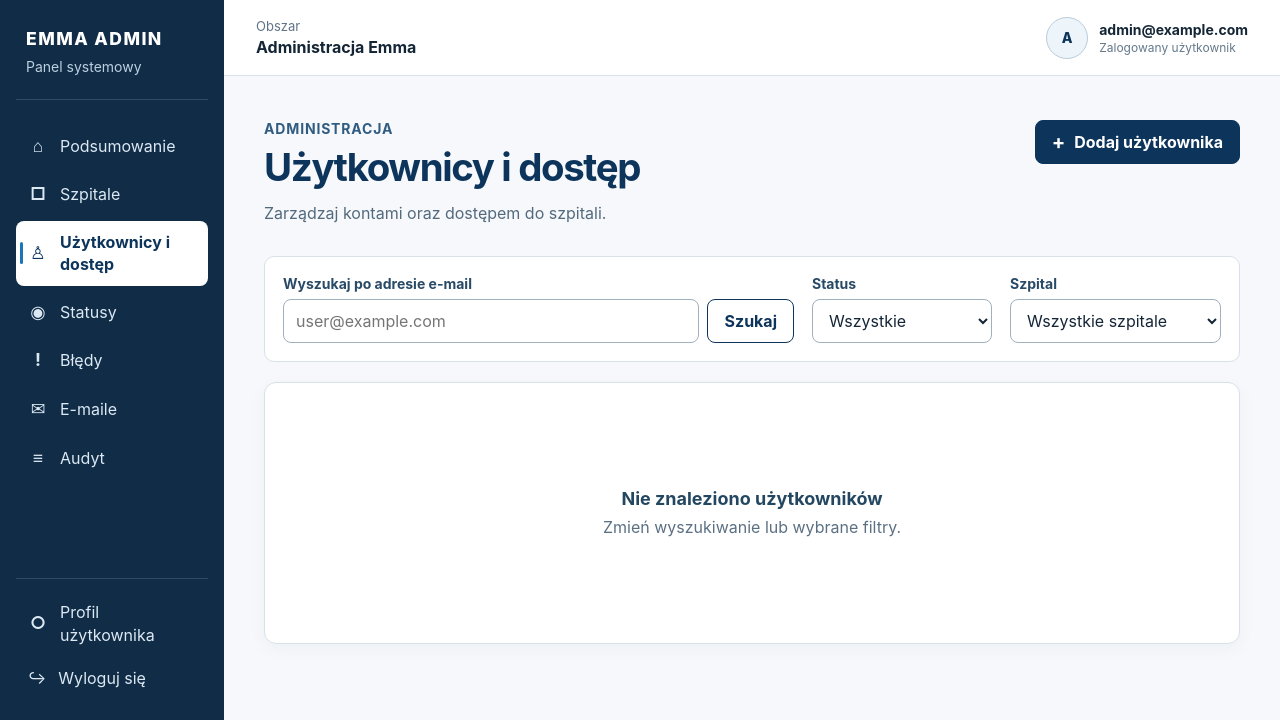
Test: Admin users page › copies the generated password and shows confirmation
This screenshot has width=1280, height=720.
Expected: the text "Nie znaleziono użytkowników" is shown, x1=621 y1=488 x2=883 y2=510
Click the button "+ Dodaj użytkownika". click: [1137, 142]
box: x1=1035 y1=120 x2=1240 y2=164
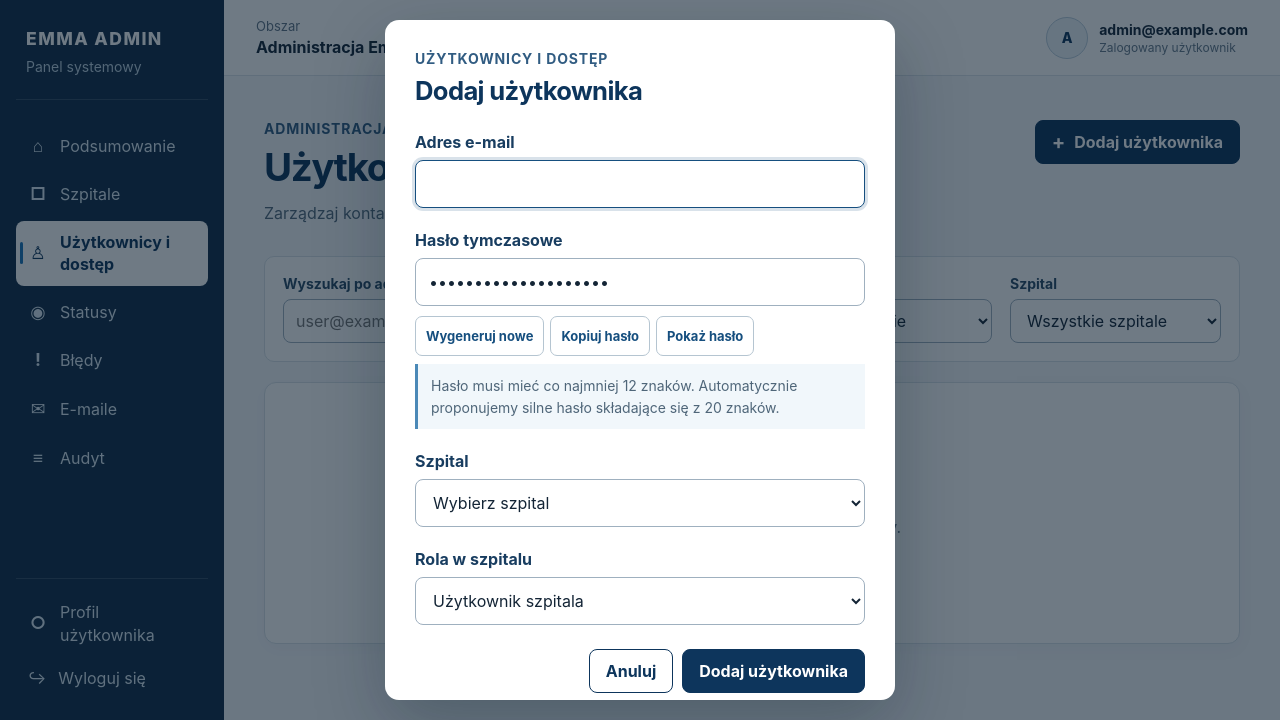
Click the button "Kopiuj hasło". click: [600, 336]
box: x1=550 y1=316 x2=650 y2=356
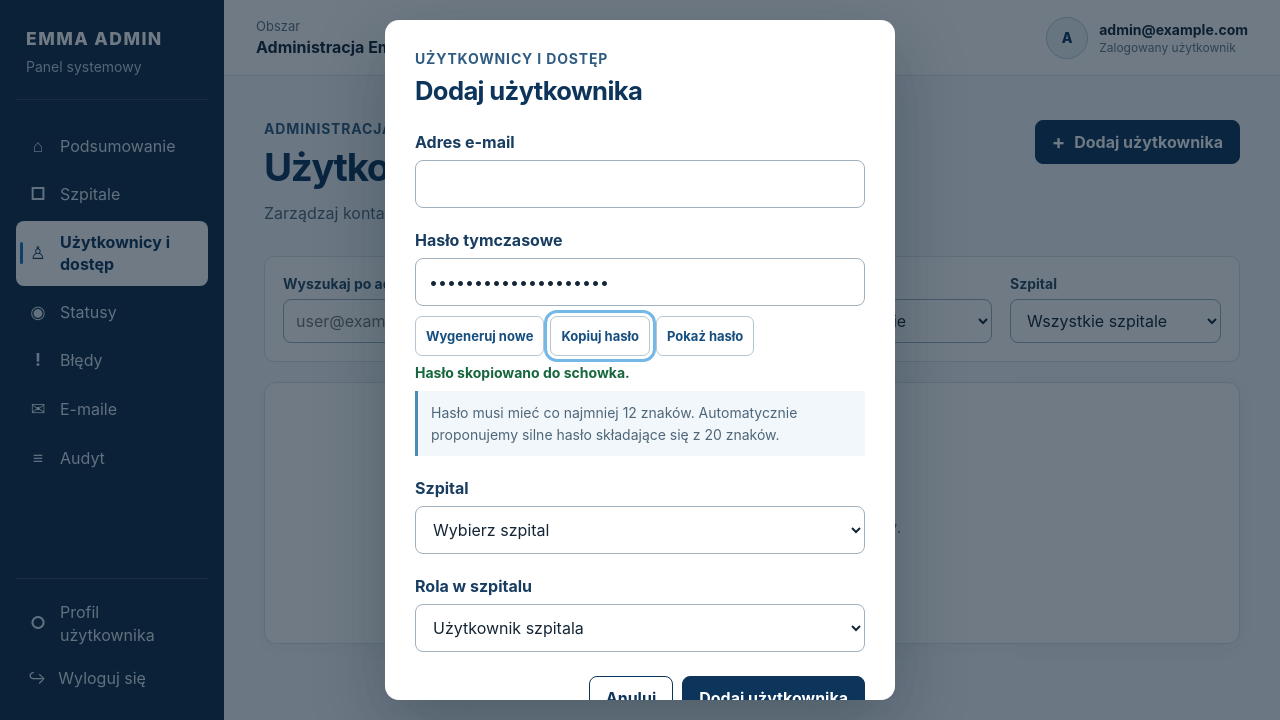
Now the text "Hasło skopiowano do schowka." is shown, box x1=415 y1=364 x2=630 y2=381
